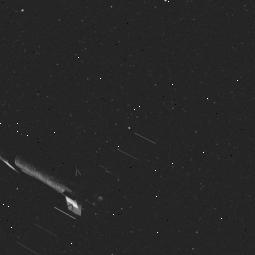xmm_newton: (0, 115, 159, 255)
